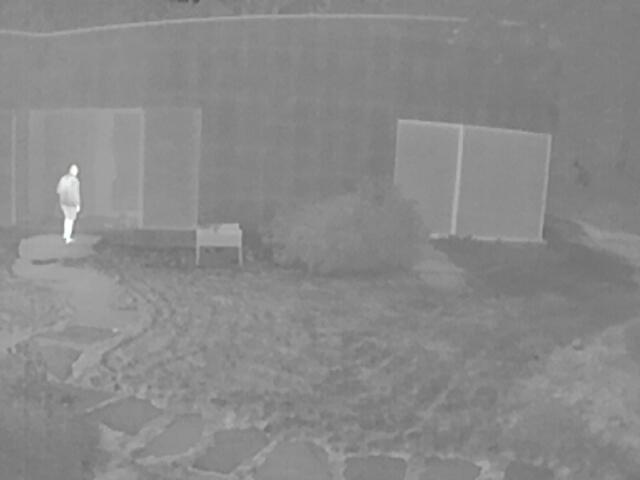person: (56, 162, 83, 245), (57, 164, 57, 167)
